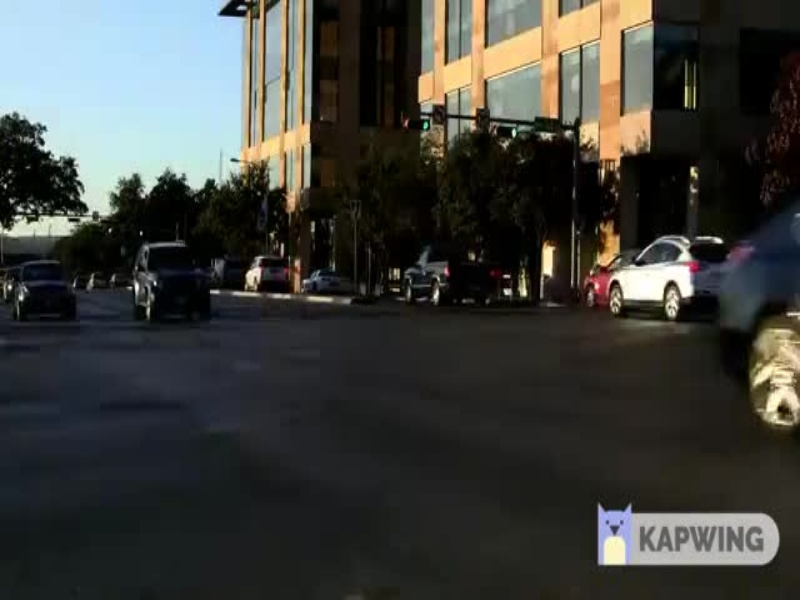car: (609, 227, 737, 329), (119, 231, 222, 327), (397, 242, 504, 308), (6, 258, 87, 328), (296, 264, 348, 300)
